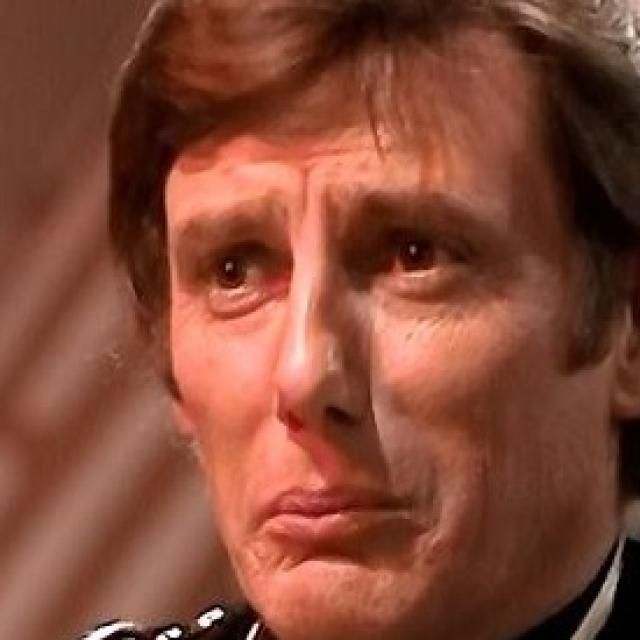Depress: (163, 38, 582, 638)
